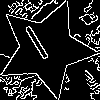I: (21, 23, 58, 70)
